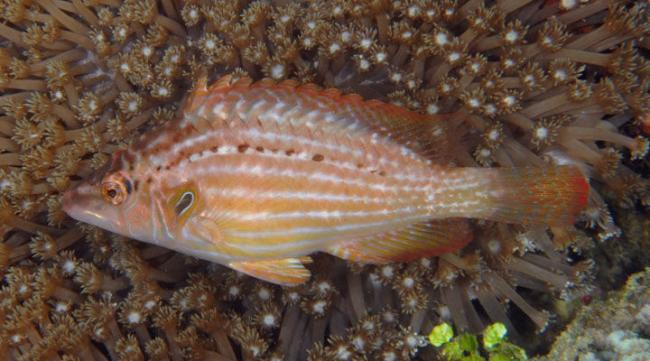fish: (62, 65, 588, 287)
